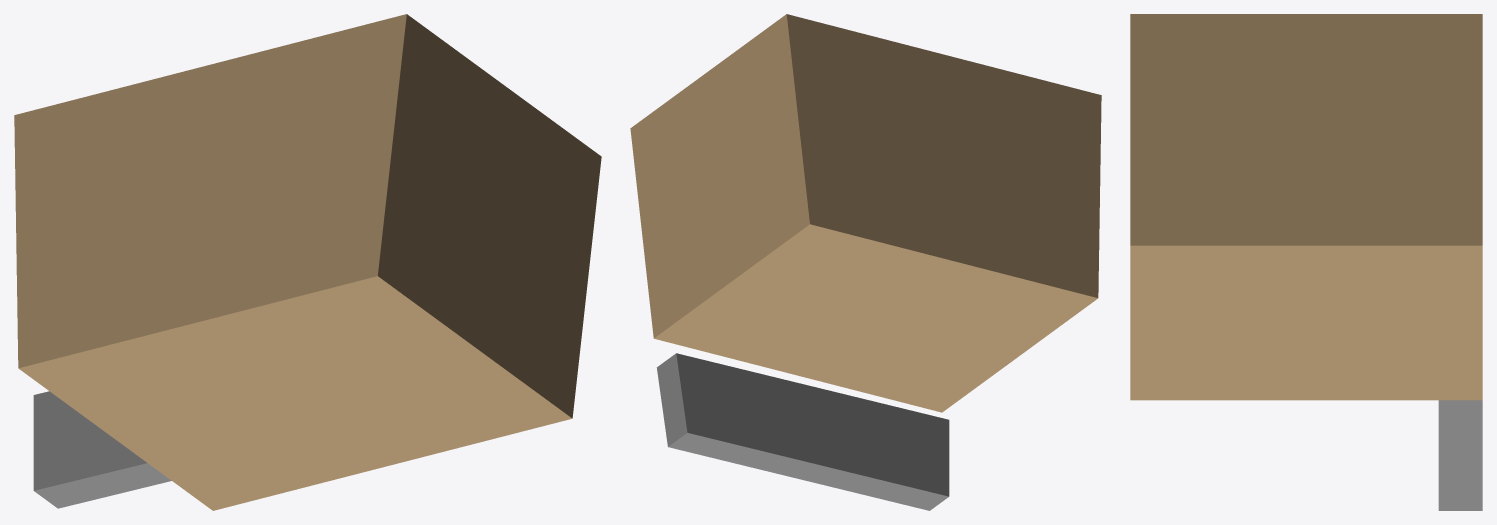
3 renders of one model, left to right at view 1: azimuth 30°, elevation 25°; view 2: azimuth 150°, elevation 25°; view 3: azimuth 270°, elevation 25°, orthographic. The views are drawn at different scales.
Visible parts, largest first — view 1: 0_0_2_0_1_0_1_2_2_3; view 2: 0_0_2_0_1_0_1_2_2_3; view 3: 0_0_2_0_1_0_1_2_2_3.
Boxes of the visible parts, x1,y1,x2,y2 form: 0_0_2_0_1_0_1_2_2_3: [14, 14, 601, 510]; 0_0_2_0_1_0_1_2_2_3: [630, 14, 1101, 510]; 0_0_2_0_1_0_1_2_2_3: [1130, 14, 1482, 510].
Size of the model in its own units: 27.92 by 26.23 by 24.
